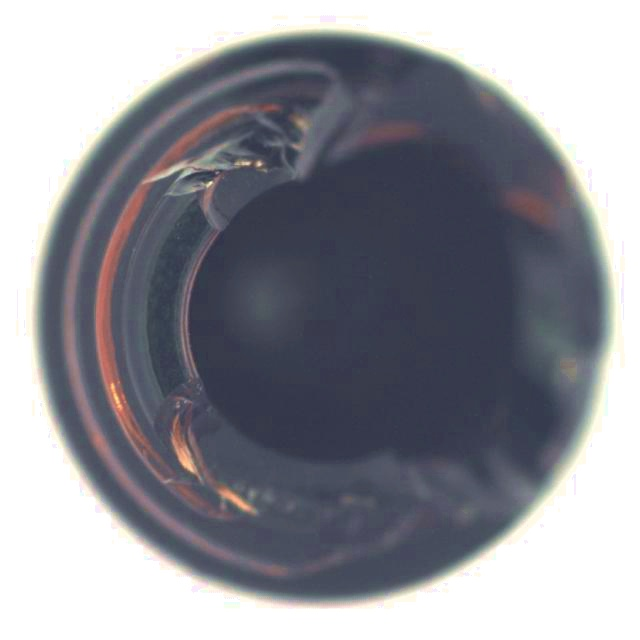bad-broken_large: (31, 29, 614, 609)
